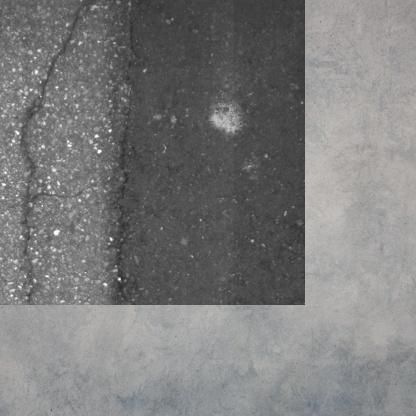Cracks: (15, 0, 85, 282)
